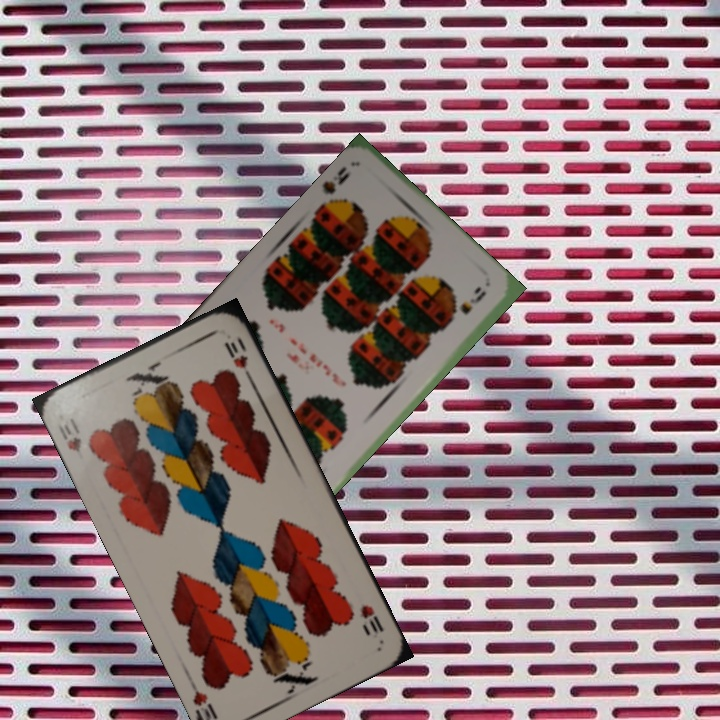H10: (356, 600, 387, 641), (54, 416, 84, 455)
S9: (315, 162, 354, 215)
